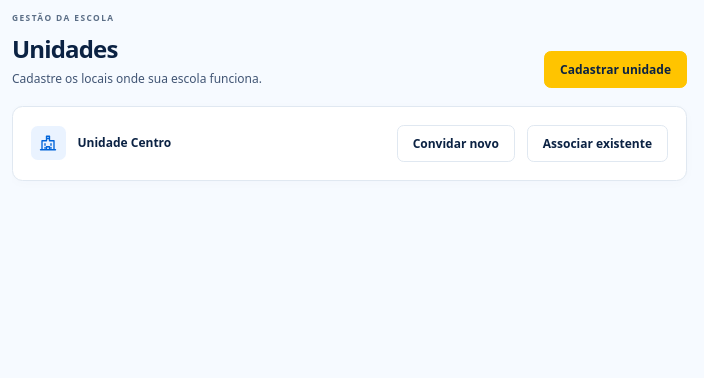
it: fluxo de unidades › associa um administrador existente sem enviar convite
Click the button "Associar existente": [597, 143] box [527,125,668,162]
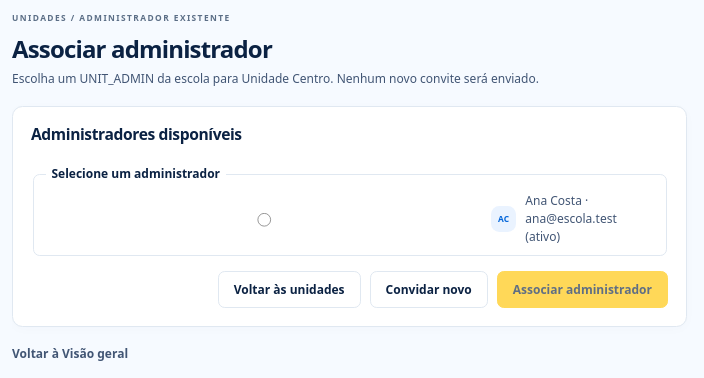
Expected: the text "Ana Costa · ana@escola.test (ativo)" is shown, [525,192,617,245]
Click the radio button labelled "AC Ana Costa · ana@escola.test (ativo)": [264, 220] box [49,214,480,227]
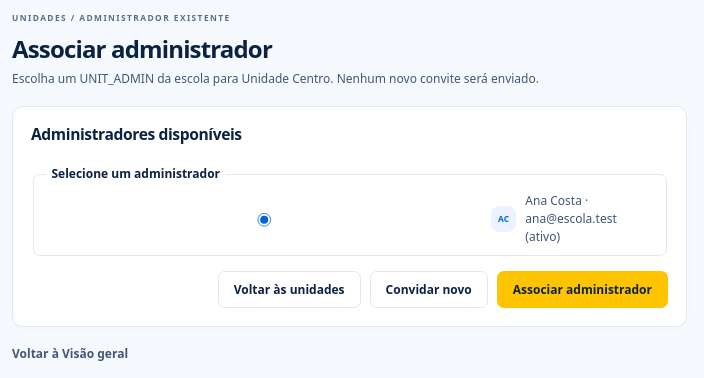
Click the button "Associar administrador": [582, 290] box [497,271,668,308]
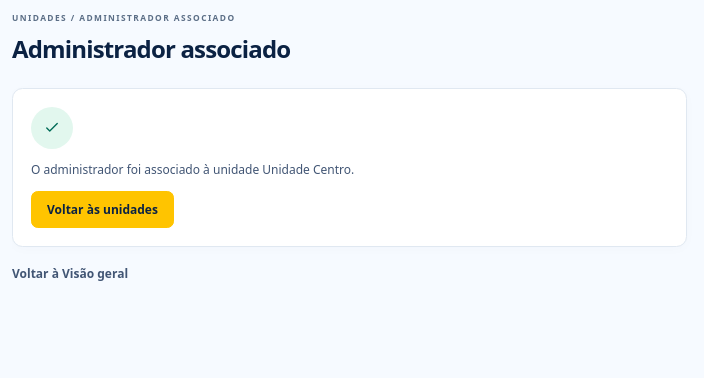
Expected: the heading "Administrador associado" is shown, [12,32,290,65]
